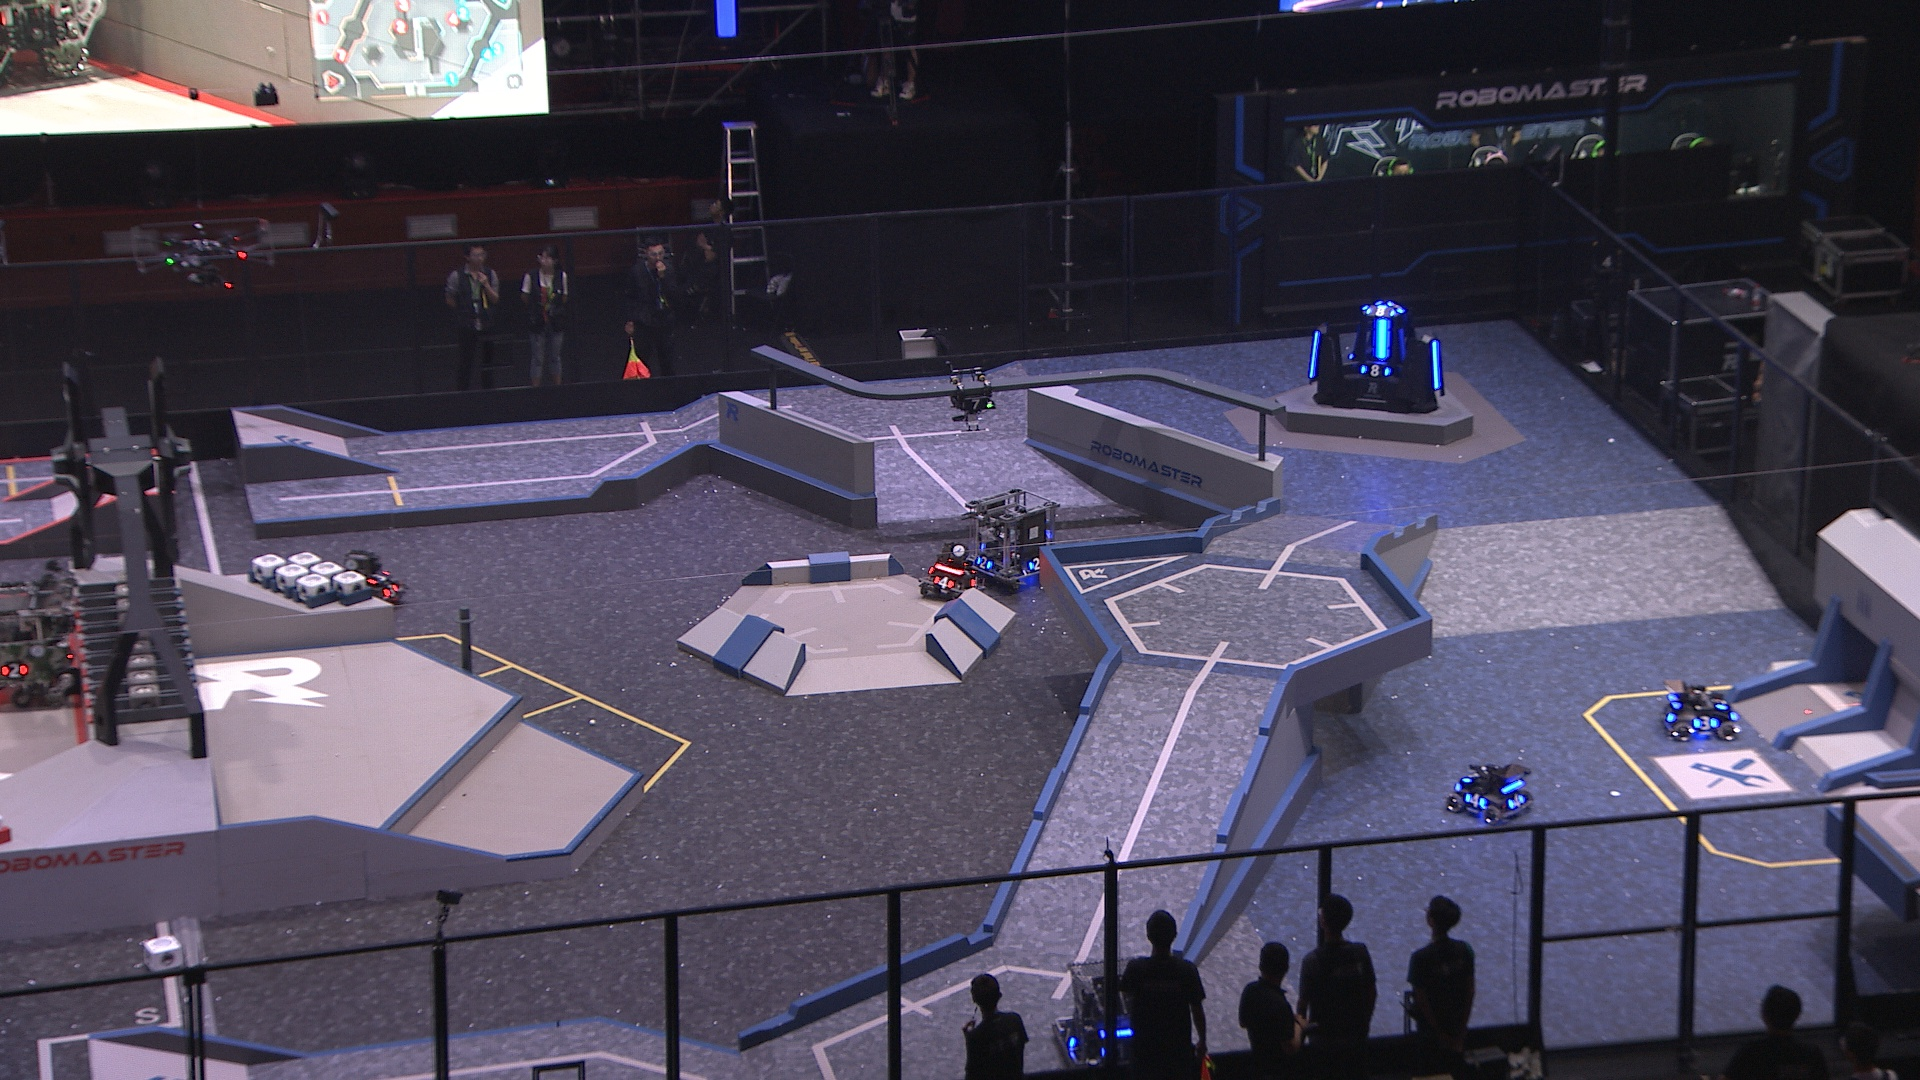armor: (1429, 338, 1447, 394), (1373, 316, 1395, 357), (1305, 328, 1323, 381), (1362, 301, 1396, 320), (1060, 1025, 1083, 1052), (0, 659, 30, 679), (1692, 712, 1718, 733), (1358, 363, 1393, 378), (961, 396, 994, 411), (1396, 323, 1410, 361), (1460, 764, 1484, 785), (380, 579, 401, 603), (365, 567, 392, 585), (1712, 690, 1731, 713), (1462, 793, 1486, 812), (1505, 793, 1527, 811), (932, 574, 956, 591), (1025, 553, 1043, 574), (1662, 702, 1676, 727), (967, 570, 982, 589), (1386, 299, 1404, 315), (975, 556, 992, 570)
base: (1302, 290, 1455, 418)
car: (1048, 953, 1166, 1071), (963, 489, 1058, 585), (1443, 756, 1538, 828), (1658, 680, 1743, 745), (335, 546, 406, 609), (916, 541, 982, 603)
watcher: (942, 360, 997, 434)
